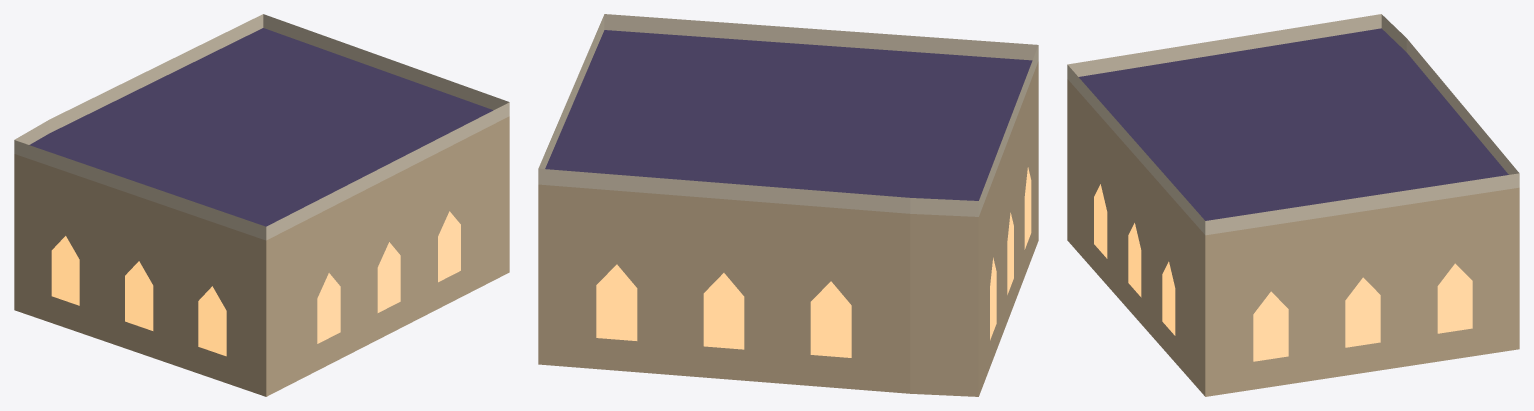
3 views of the same model, side by side, from view 1: azimuth 30°, elevation 25°; view 2: azimuth 150°, elevation 25°; view 3: azimuth 270°, elevation 25° (orthographic). The views are drawn at different scales.
Parts seen in each view (by area): view 1: campus/b-098-0; view 2: campus/b-098-0; view 3: campus/b-098-0.
Part boxes in pixels (box(x1,y1,x2,y2)): campus/b-098-0: box(14, 14, 509, 396); campus/b-098-0: box(538, 14, 1038, 396); campus/b-098-0: box(1067, 14, 1519, 396).
Size of the model in its own units: 17.03 by 6.75 by 15.72.
